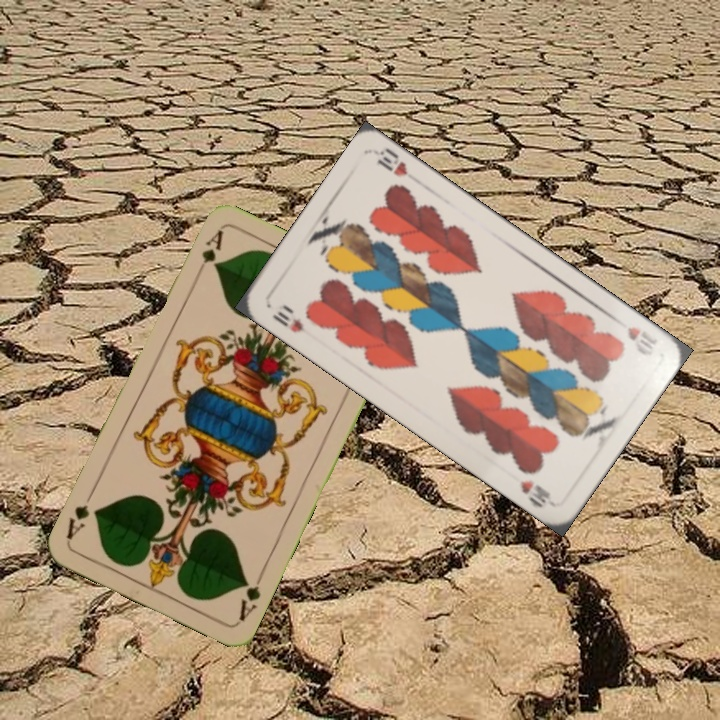GA: (191, 226, 226, 281), (234, 567, 267, 624)
H10: (623, 322, 661, 352), (268, 307, 306, 336)
